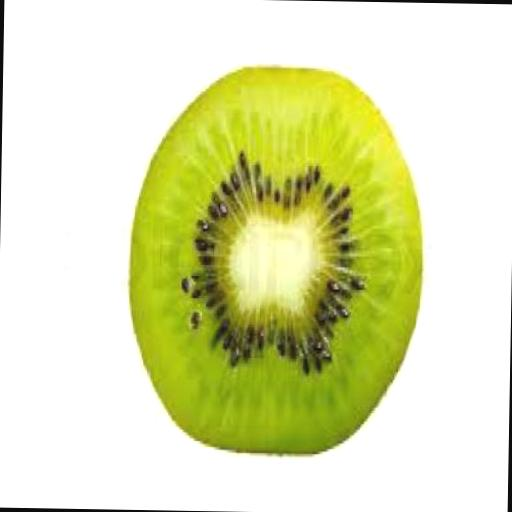biodegradable: (124, 58, 424, 456)
